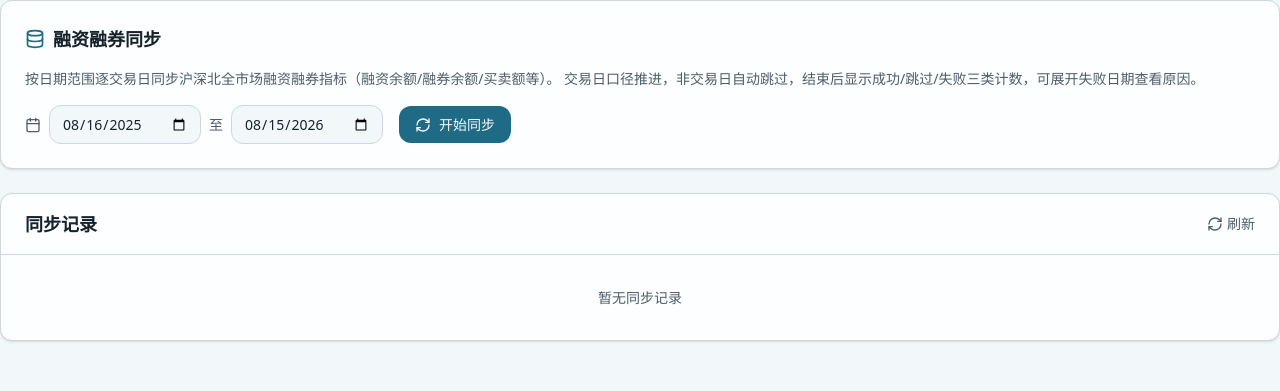
Test: MarginSyncPanel › 默认渲染与前端校验 › 未来结束日：按钮禁用 + 行内错误提示
This screenshot has width=1280, height=391.
Type "2026-08-01" into the date field named "开始日期" at {"x": 125, "y": 124}, box [49,105,201,144]
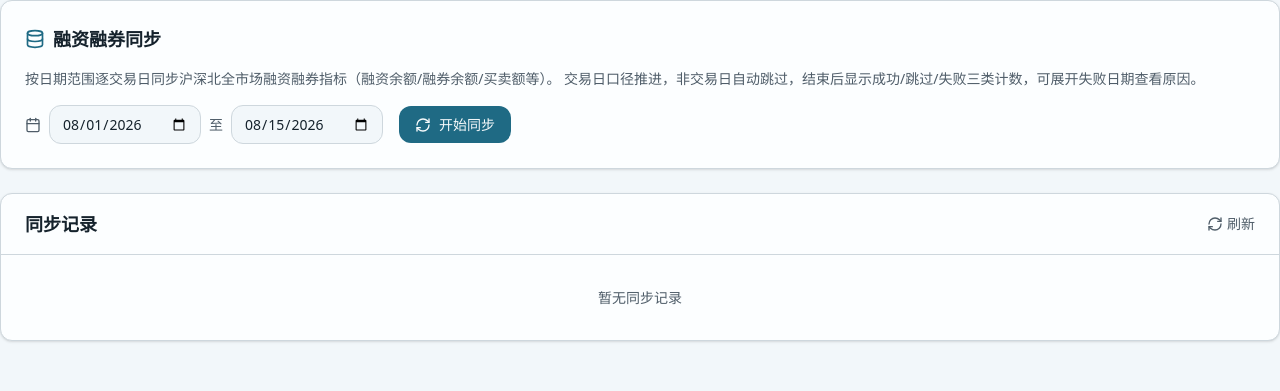
Type "2099-12-31" into the date field named "结束日期" at {"x": 307, "y": 124}, box [231,105,383,144]
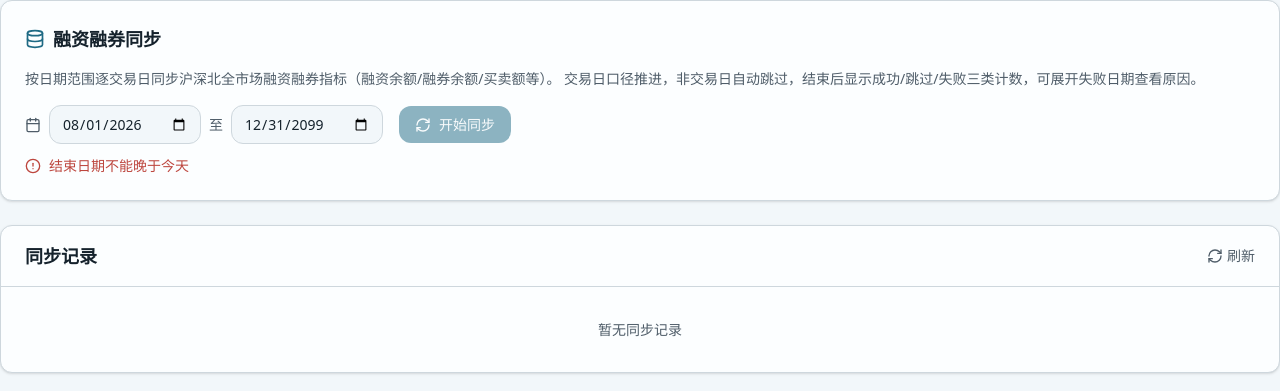
expect the button with test id "margin-sync-start-button" is disabled: met, box [399,106,511,143]
expect the element with test id "margin-sync-validation-error" shows "不能晚于今天": met, box [49,156,189,175]
